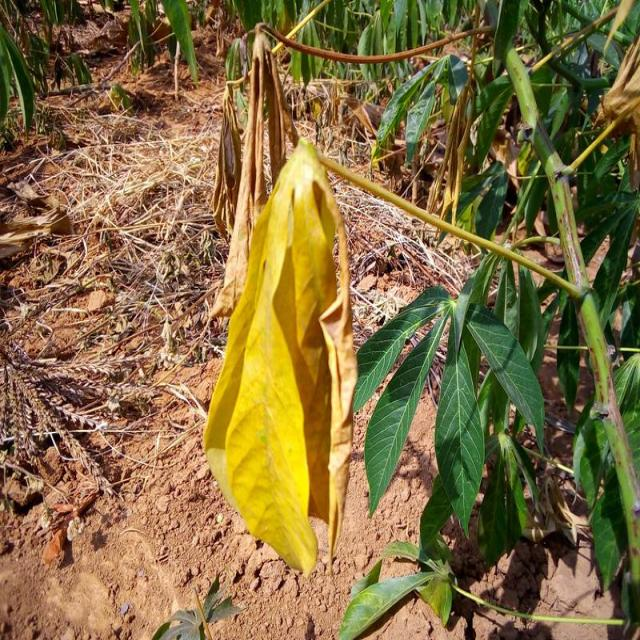cassava leaf: (202, 137, 360, 576)
